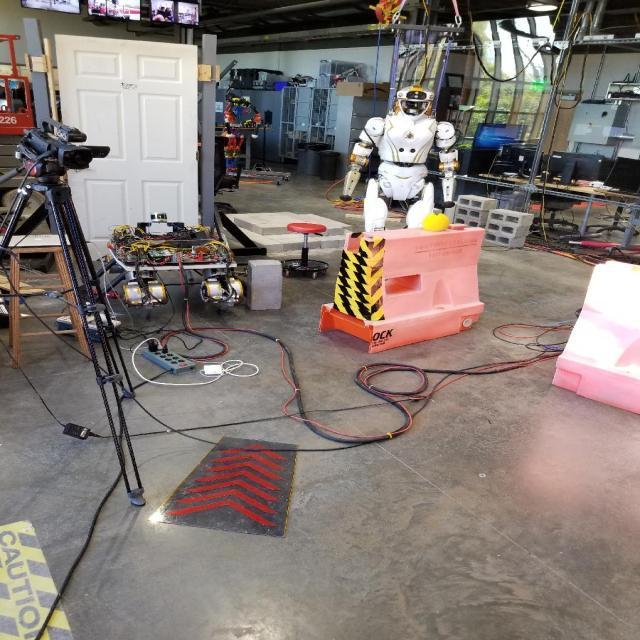door: (50, 32, 205, 276)
